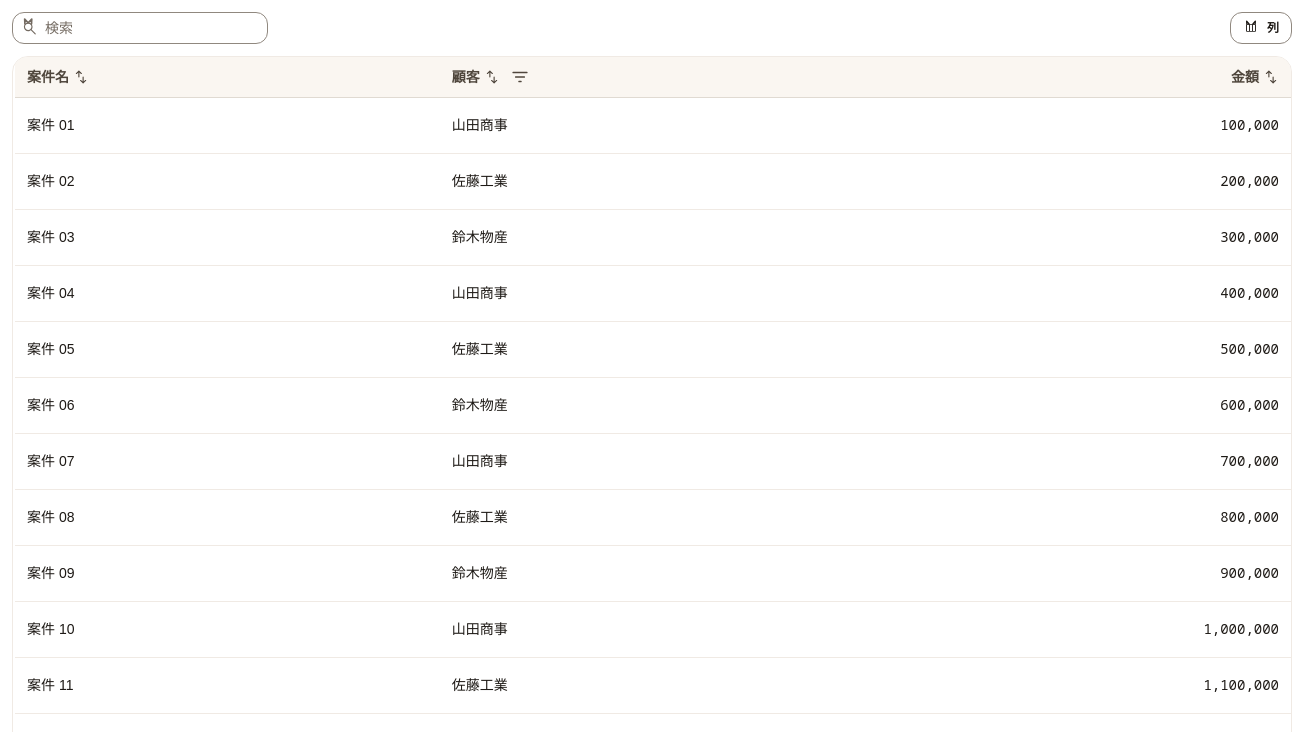
DataGrid › 操作: 「列」メニューで列を隠せる
The image size is (1304, 732).
Press Enter
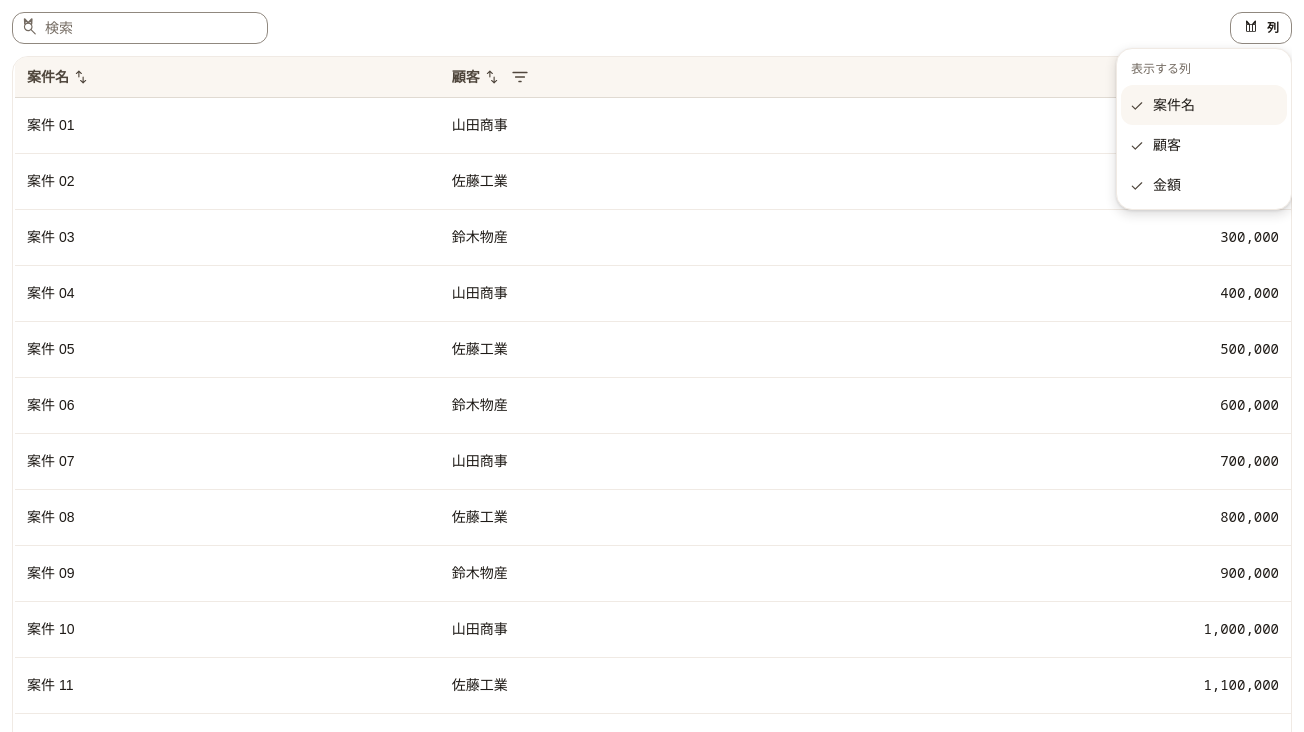
Click the menu item "顧客" at (1155, 146), box [1129,137,1181,154]
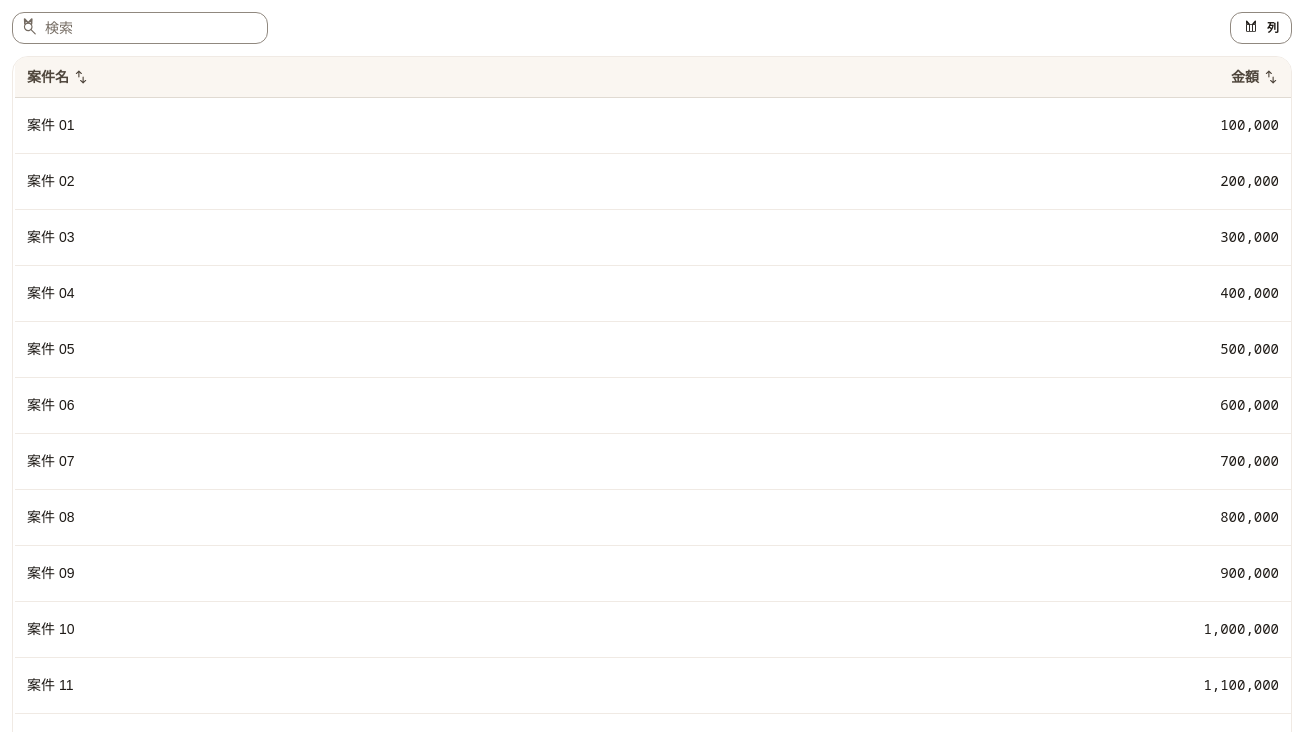
Check: the button "顧客" is gone
